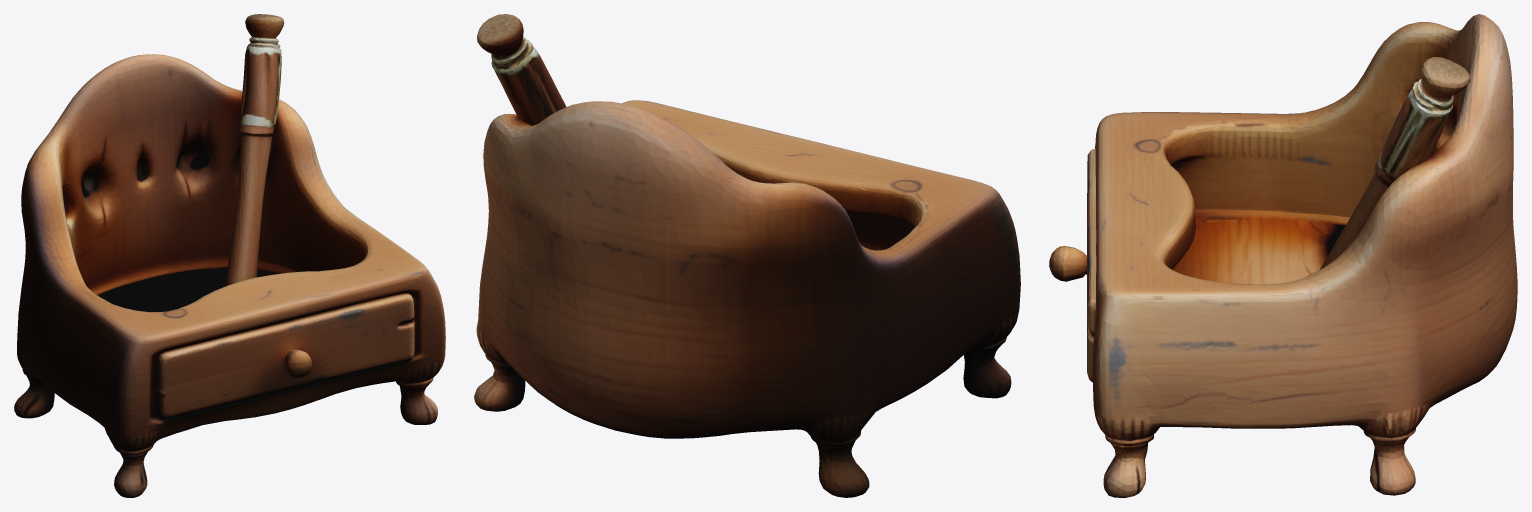
The model's file is handmade-clay-pen-holder-aged-hyperrealistic-furniture.jpeg.glb.
The picture shows the model from 3 angles, left to right: view 1: azimuth 30°, elevation 25°; view 2: azimuth 150°, elevation 25°; view 3: azimuth 270°, elevation 25°; orthographic projection. The views are drawn at different scales.
Parts seen in each view (by area): view 1: world; view 2: world; view 3: world.
Boxes of the visible parts, x1,y1,x2,y2 form: world: (14,14,445,497); world: (474,14,1020,497); world: (1049,14,1517,497).
Bounding box in the file's own units: 0.9995 × 0.9493 × 0.9768.
1 material, 1 textured.
